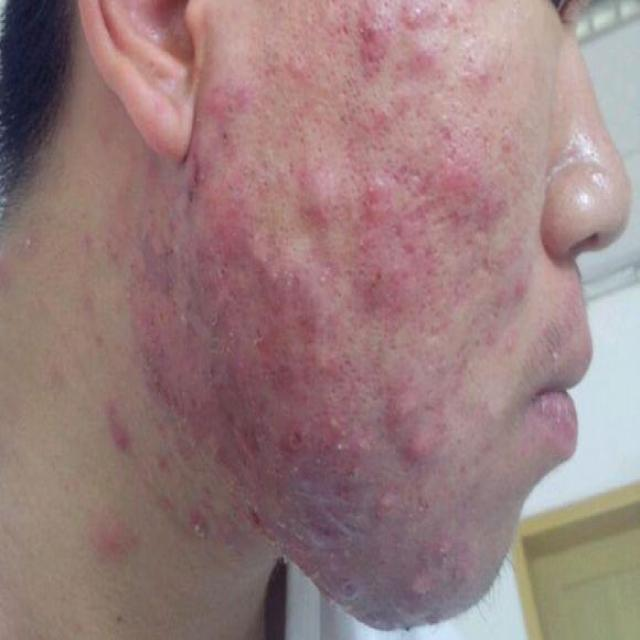Acne: (212, 218, 306, 440), (286, 445, 390, 588), (406, 162, 512, 272), (150, 247, 208, 419), (392, 509, 472, 630), (384, 392, 452, 482), (388, 0, 463, 80), (360, 175, 404, 308), (182, 130, 242, 208), (314, 337, 356, 435), (240, 447, 282, 536), (90, 396, 130, 460), (180, 494, 224, 546), (367, 94, 407, 149), (358, 7, 388, 73), (98, 530, 156, 564), (471, 51, 501, 108), (212, 80, 245, 120), (324, 13, 354, 56), (318, 270, 347, 310), (304, 168, 325, 220), (431, 118, 459, 146), (514, 266, 532, 304)
